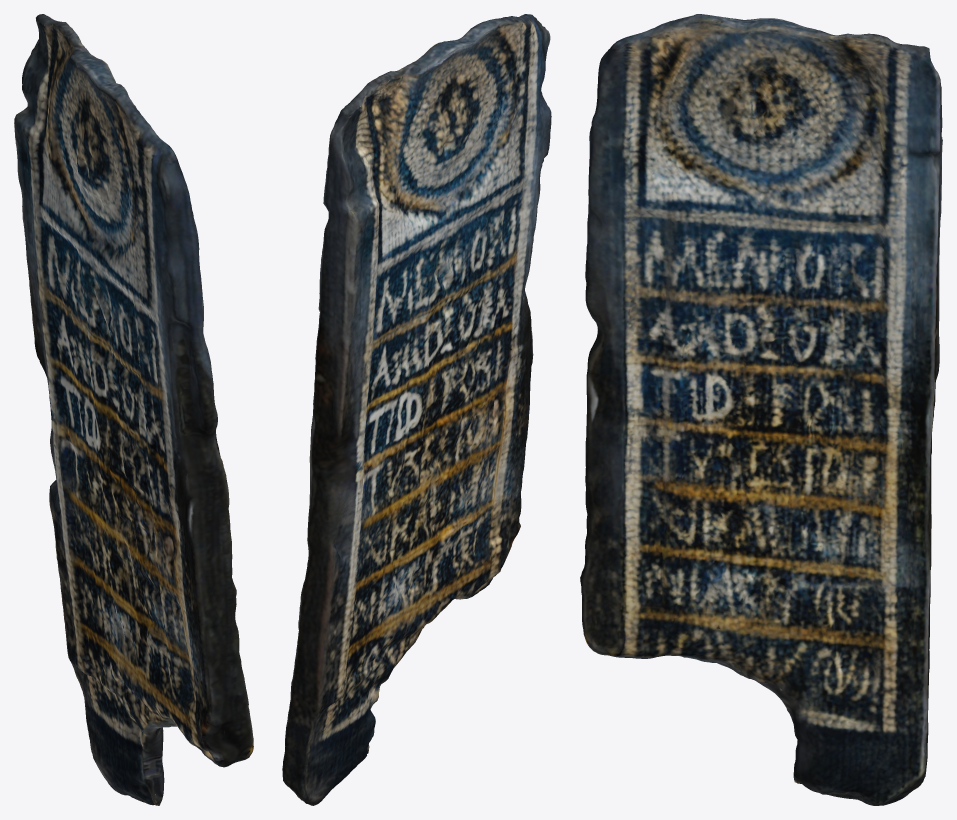
The model's file is primary-compressed.glb.
3 renders of one model, left to right at view 1: azimuth 30°, elevation 25°; view 2: azimuth 150°, elevation 25°; view 3: azimuth 270°, elevation 25°, orthographic. The views are drawn at different scales.
Bounding box in the file's own units: 0.3158 × 2 × 0.8791.
Materials: 1 (1 with a texture image).
